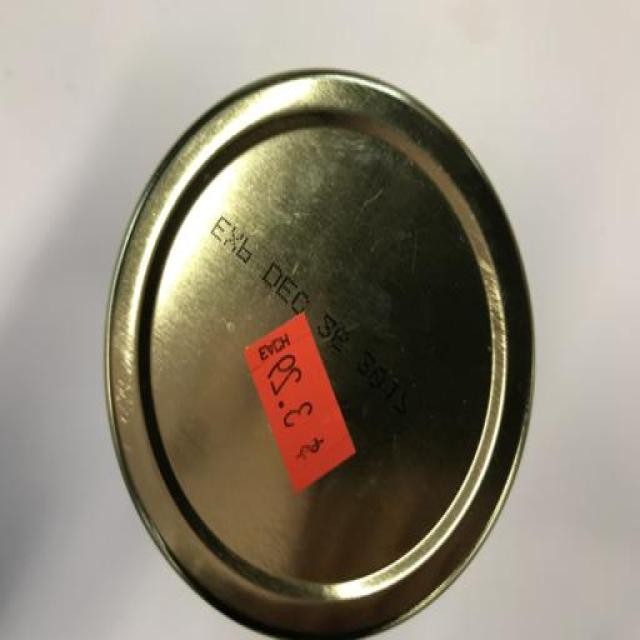glass: (102, 68, 535, 640)
